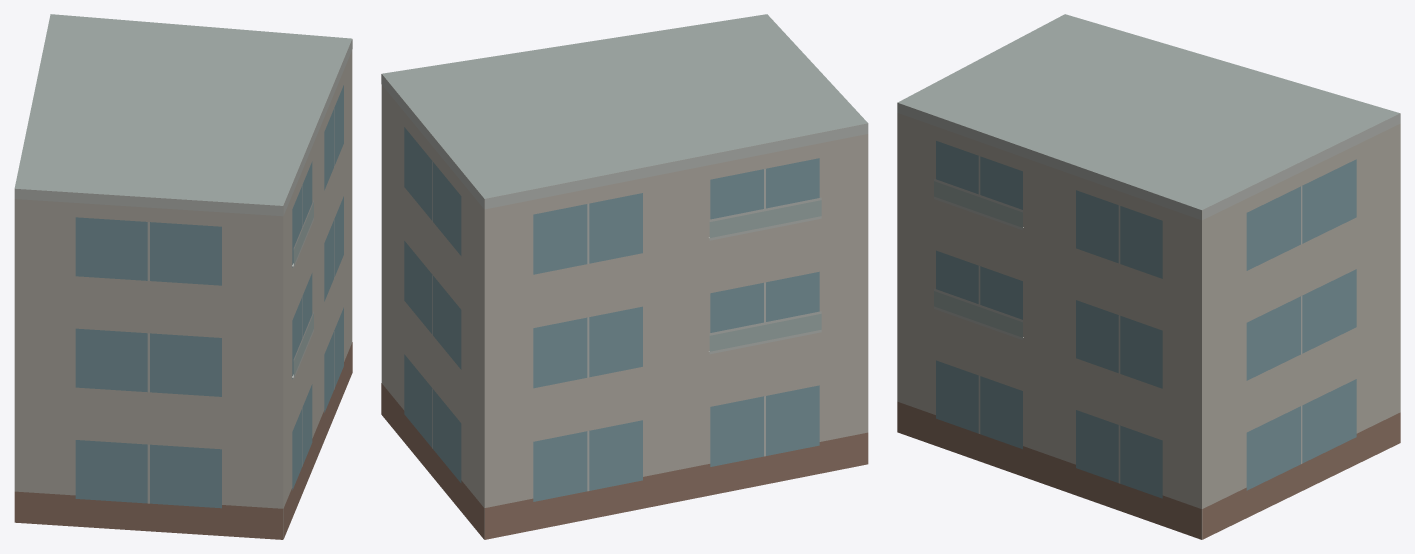
Rendered from survey-upis-32680418.glb.
3 views of the same model, side by side, from view 1: azimuth 30°, elevation 25°; view 2: azimuth 150°, elevation 25°; view 3: azimuth 270°, elevation 25° (orthographic). The views are drawn at different scales.
Visible parts, largest first — view 1: survey-upis-32680418.tmp; view 2: survey-upis-32680418.tmp; view 3: survey-upis-32680418.tmp.
Part boxes in pixels (box(x1,y1,x2,y2)): survey-upis-32680418.tmp: box(14, 14, 352, 539); survey-upis-32680418.tmp: box(381, 14, 868, 539); survey-upis-32680418.tmp: box(897, 14, 1400, 539).
Size of the model in its own units: 10.1 by 7.9 by 10.94.
